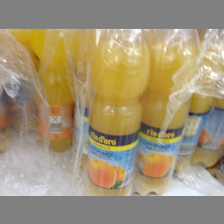juice: (86, 29, 151, 195), (31, 30, 79, 154)
